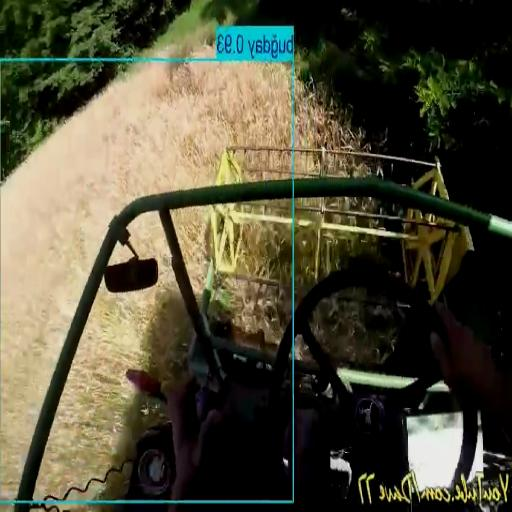bugday: (1, 64, 292, 498), (36, 213, 191, 496), (293, 73, 383, 179)
